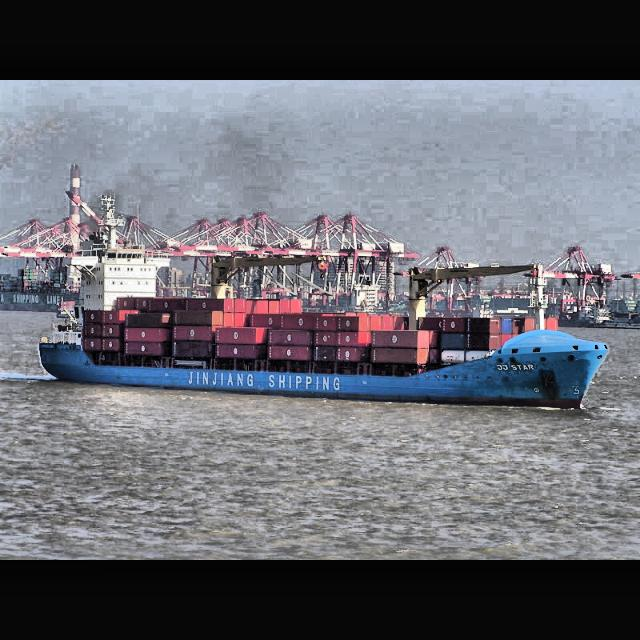container: (37, 234, 609, 411)
